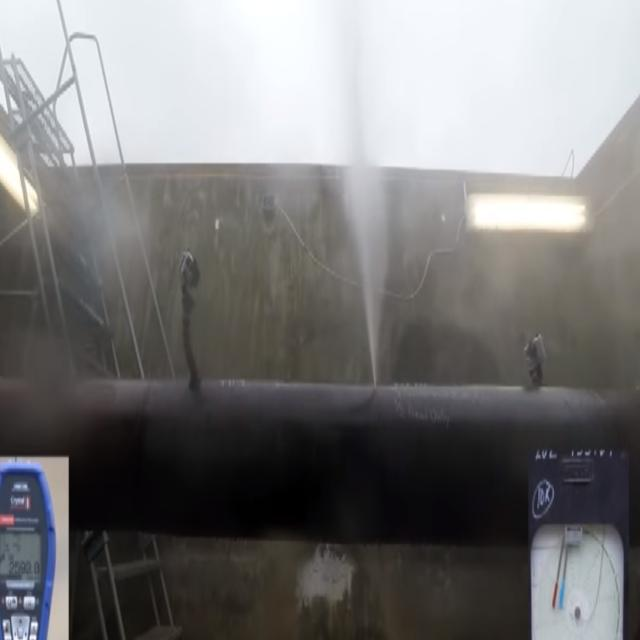leak: (342, 5, 388, 385)
